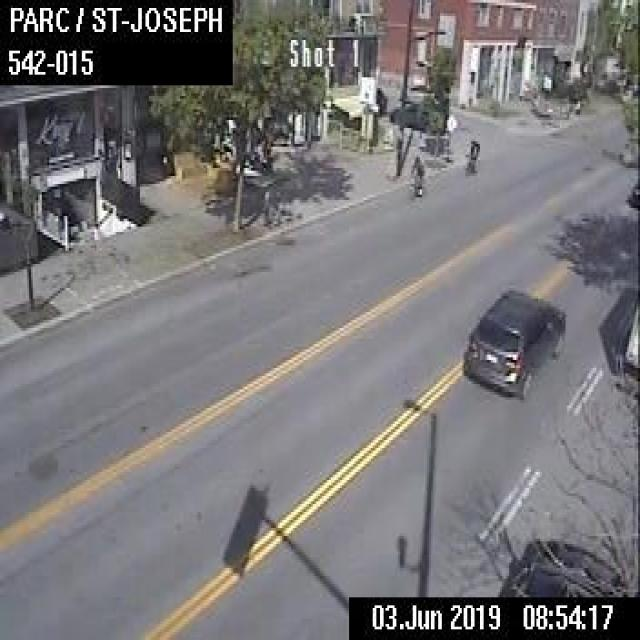cyclist: (406, 154, 424, 210), (464, 133, 478, 171)
vehicle: (460, 285, 565, 403), (493, 533, 627, 595), (391, 92, 456, 135), (622, 288, 638, 371), (626, 178, 638, 210)
